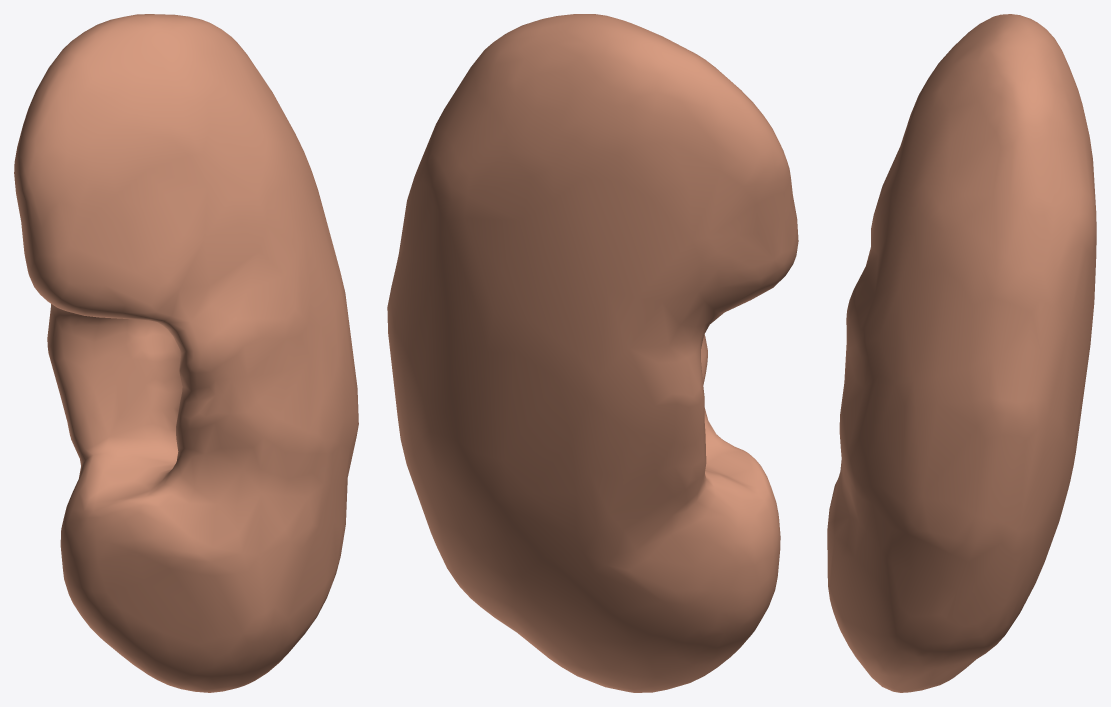
Rendered from kidney-l.glb.
3 renders of one model, left to right at view 1: azimuth 30°, elevation 25°; view 2: azimuth 150°, elevation 25°; view 3: azimuth 270°, elevation 25°, orthographic. The views are drawn at different scales.
Visible parts, largest first — view 1: Kidney.l; view 2: Kidney.l; view 3: Kidney.l.
Part boxes in pixels (x1,y1,x2,y2): Kidney.l: [14, 14, 358, 692]; Kidney.l: [387, 14, 798, 692]; Kidney.l: [827, 14, 1096, 692].
Size of the model in its own units: 0.0575 by 0.1059 by 0.0406.
